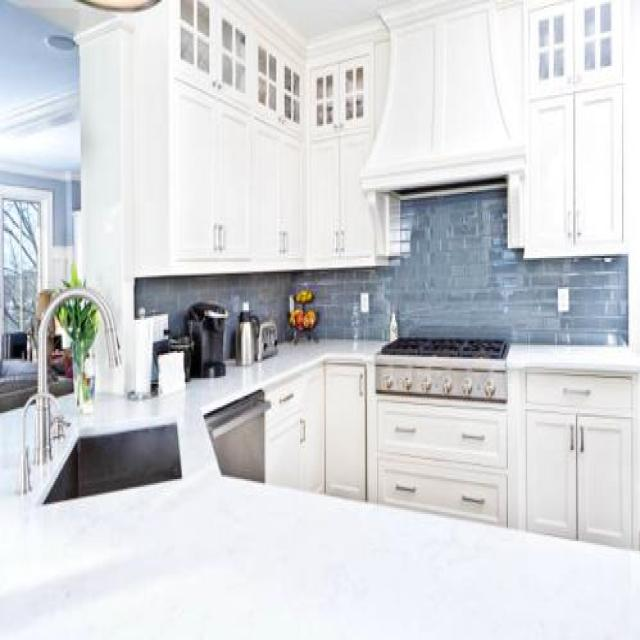dishwasher: (204, 390, 263, 481)
